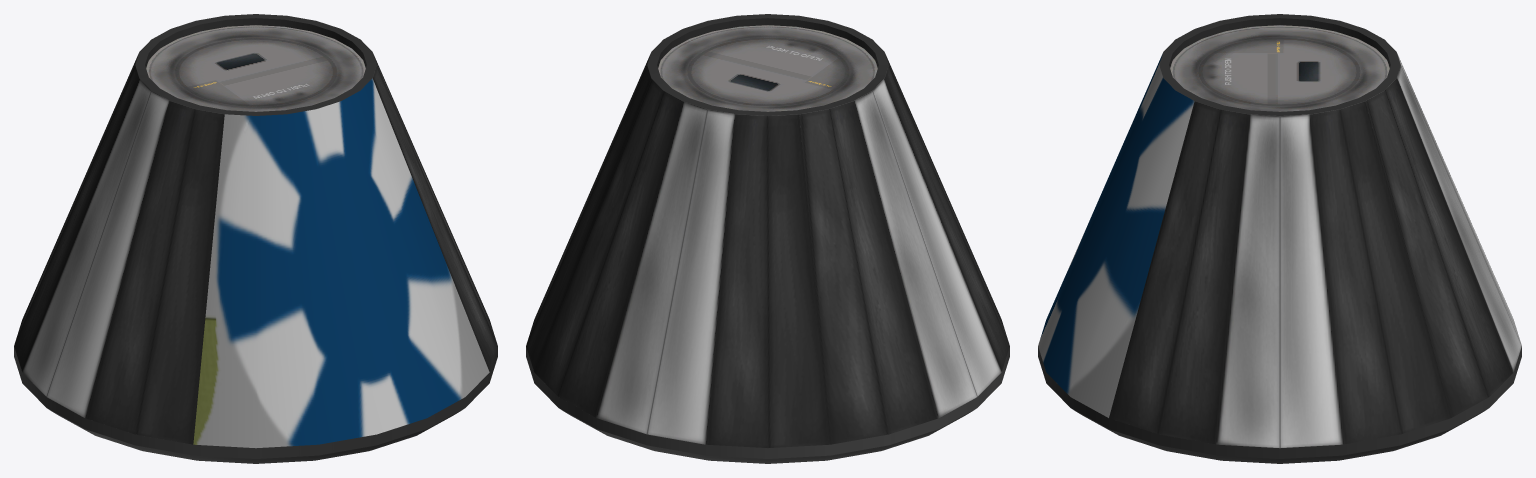
The model's file is Korona.FBX.
The picture shows the model from 3 angles, left to right: view 1: azimuth 30°, elevation 25°; view 2: azimuth 150°, elevation 25°; view 3: azimuth 270°, elevation 25°; orthographic projection.
Visible parts, largest first — view 1: MainBody, Heat Shield; view 2: MainBody, Heat Shield; view 3: MainBody, Heat Shield.
Boxes of the visible parts, x1,y1,x2,y2 form: MainBody: (14,14,497,448); Heat Shield: (14,346,497,463); MainBody: (526,14,1009,448); Heat Shield: (526,346,1009,463); MainBody: (1038,14,1521,448); Heat Shield: (1038,346,1521,463).
Size of what is drawn, in the model's own units: 1.25 by 0.9742 by 1.25.
